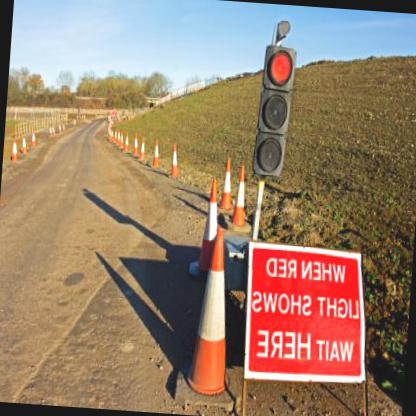cone: (186, 226, 242, 394), (188, 179, 224, 278), (226, 164, 257, 232), (219, 156, 238, 214), (170, 138, 183, 176), (153, 136, 163, 167), (138, 134, 148, 162), (10, 136, 20, 162), (134, 132, 140, 158)
